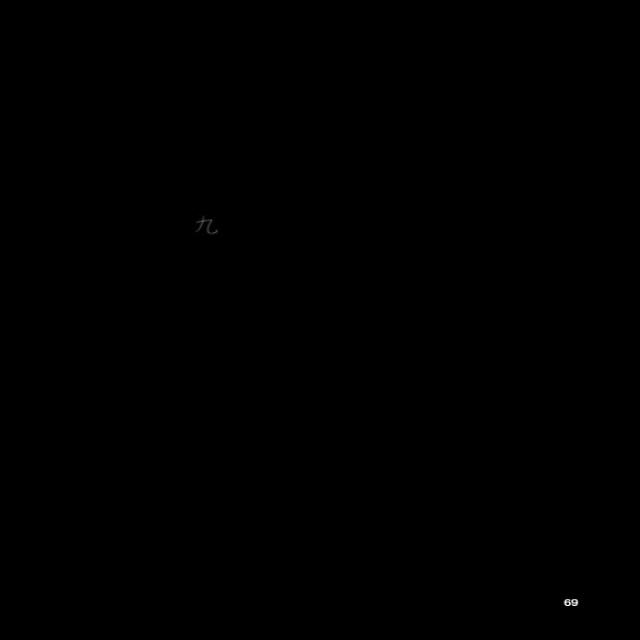9 -nine-: (189, 212, 221, 236)
